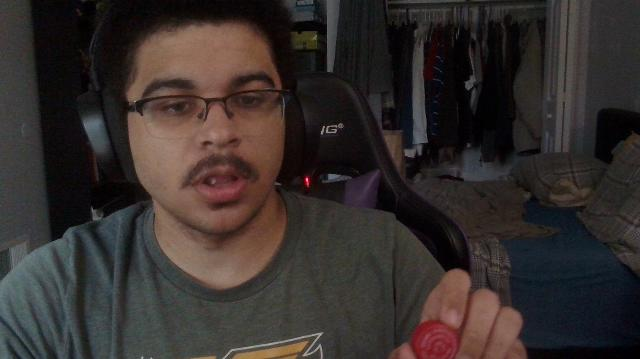cap: (410, 320, 459, 359)
